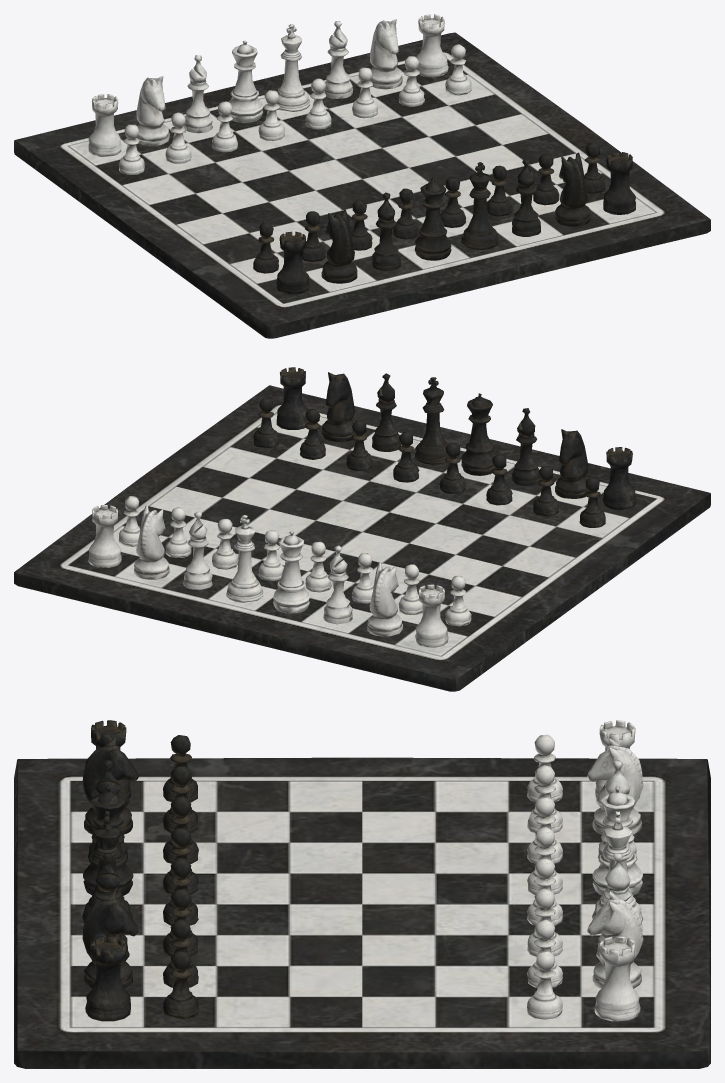
File: chess_set.glb
3 views of the same model, one above another, from view 1: azimuth 30°, elevation 25°; view 2: azimuth 150°, elevation 25°; view 3: azimuth 270°, elevation 25° (orthographic). The views are drawn at different scales.
Parts seen in each view (by area): view 1: chess_set_board, chess_set_pieces_black, chess_set_pieces_white; view 2: chess_set_board, chess_set_pieces_white, chess_set_pieces_black; view 3: chess_set_board, chess_set_pieces_white, chess_set_pieces_black.
Boxes of the visible parts, x1,y1,x2,y2 form: chess_set_board: (14, 32, 710, 338); chess_set_pieces_black: (253, 143, 635, 294); chess_set_pieces_white: (88, 14, 471, 174); chess_set_board: (14, 385, 710, 691); chess_set_pieces_white: (88, 496, 471, 647); chess_set_pieces_black: (253, 367, 636, 527); chess_set_board: (14, 757, 710, 1068); chess_set_pieces_white: (527, 720, 643, 1021); chess_set_pieces_black: (82, 720, 198, 1021).
Bounding box in the file's own units: 0.5532 × 0.1103 × 0.5532.
Materials: 3 (3 with a texture image).
